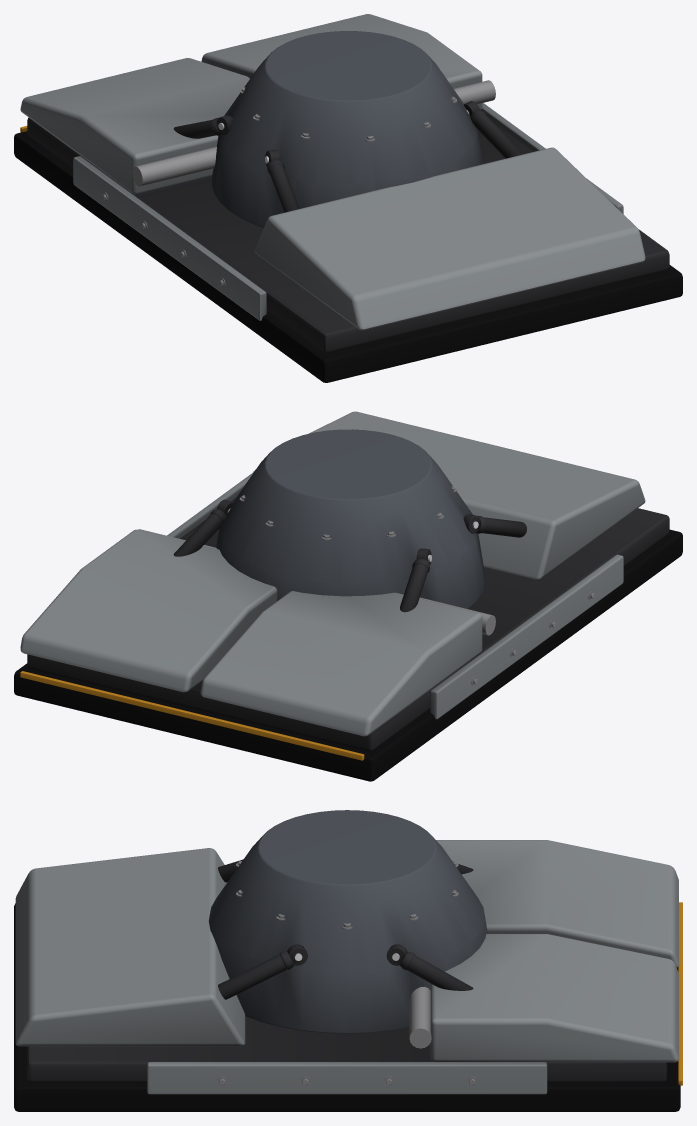
File: bastion.foot.glb
The picture shows the model from 3 angles, top to bottom: view 1: azimuth 30°, elevation 25°; view 2: azimuth 150°, elevation 25°; view 3: azimuth 270°, elevation 25°; orthographic projection. The views are drawn at different scales.
Bounding box in the file's own units: 2.9 × 1.24 × 4.21.
